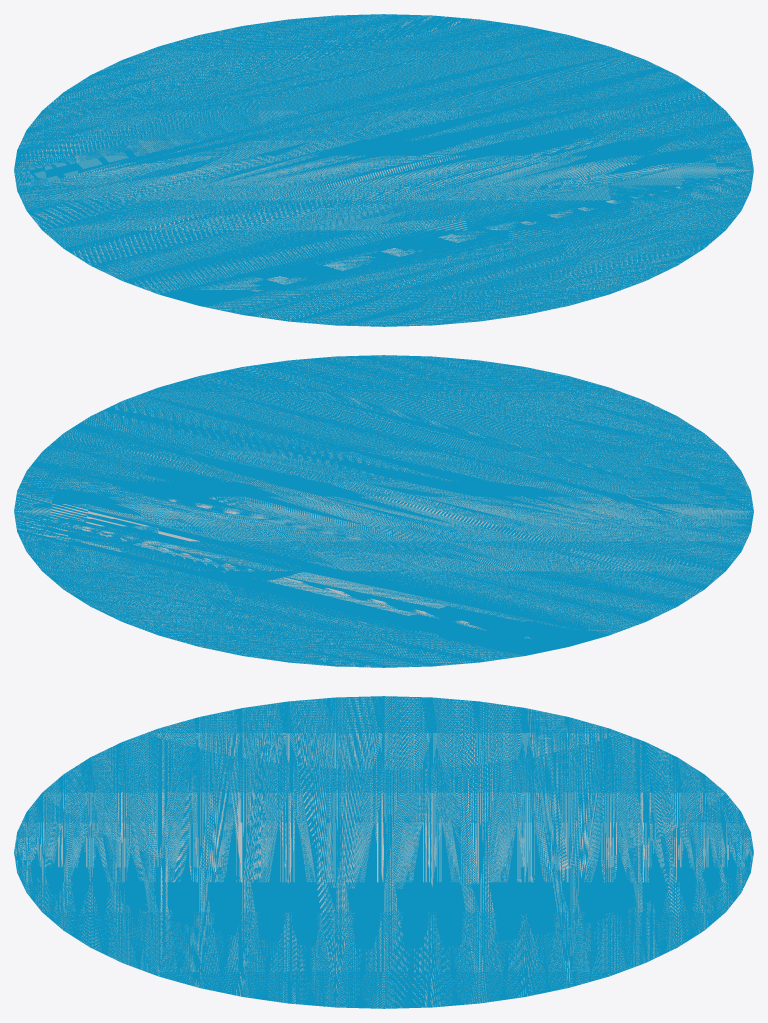
File: original-40.obj
The picture shows the model from 3 angles, top to bottom: view 1: azimuth 30°, elevation 25°; view 2: azimuth 150°, elevation 25°; view 3: azimuth 270°, elevation 25°; orthographic projection.
Parts seen in each view (by area): view 1: #ID390; view 2: #ID390; view 3: #ID390.
Boxes of the visible parts, x1,y1,x2,y2 form: #ID390: (14, 14, 753, 326); #ID390: (14, 355, 753, 667); #ID390: (14, 696, 753, 1008).
Size of the model in its own units: 0.1066 by 0 by 0.1066.
